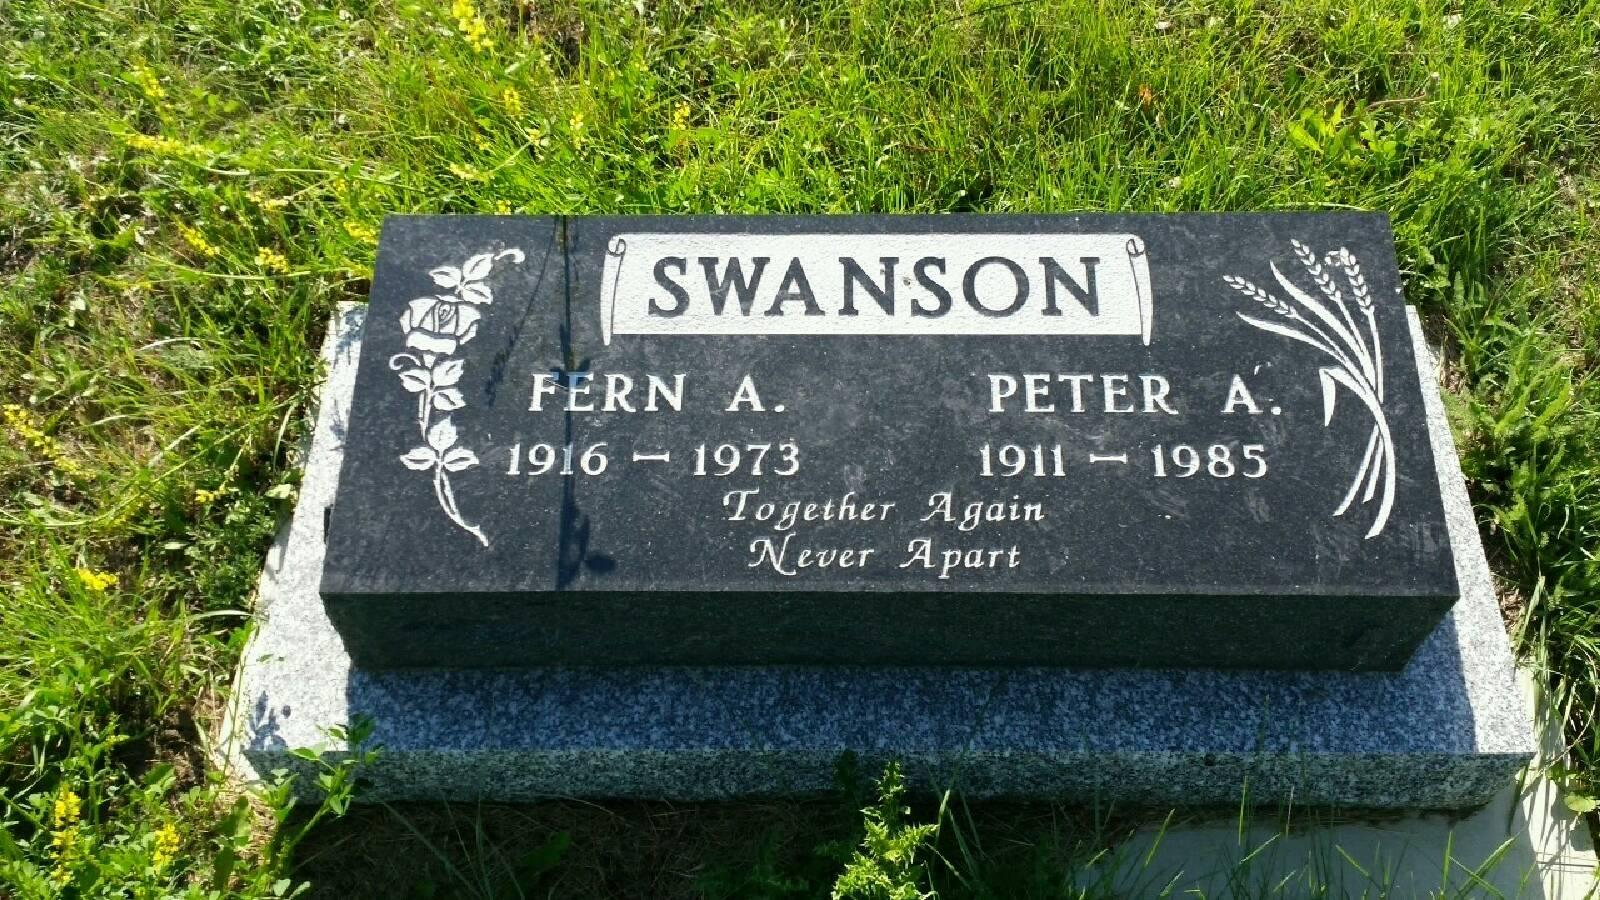flat: (273, 177, 1533, 802)
